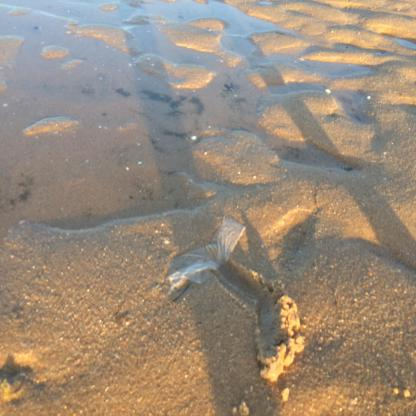plastik: (169, 219, 247, 287)
